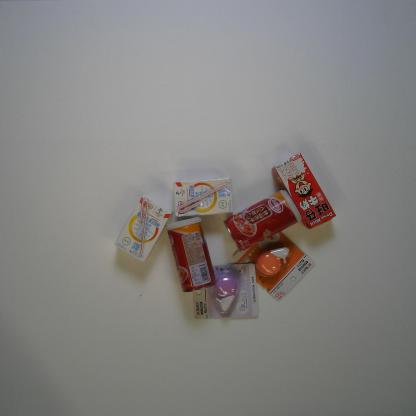Canned Food: (221, 188, 303, 252), (161, 216, 218, 292)
Milk: (273, 152, 337, 230), (113, 193, 173, 265), (171, 176, 234, 218)
Stationery: (231, 229, 316, 303), (191, 261, 260, 320)
